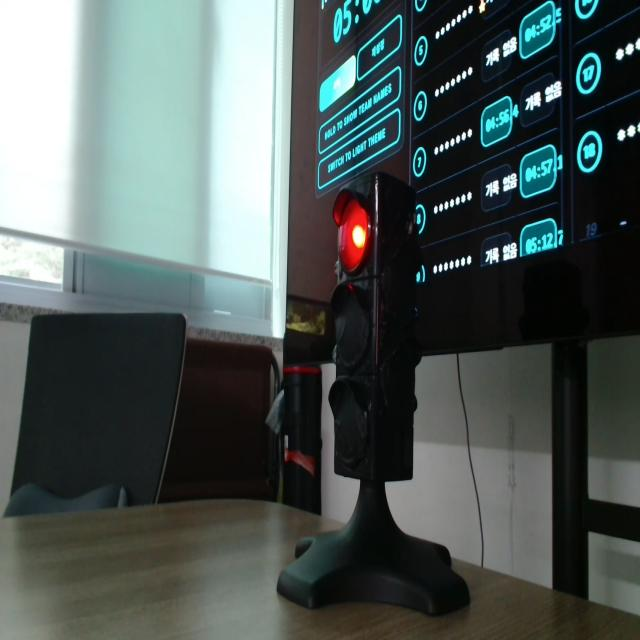red_light: (339, 199, 369, 273), (352, 225, 366, 248)
